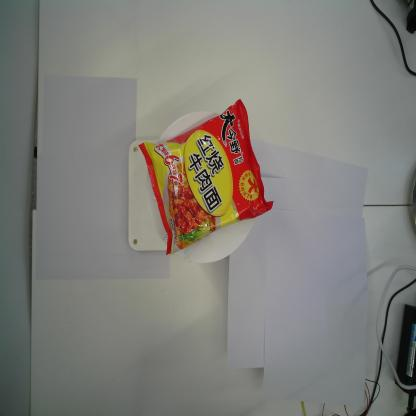Instant Noodles: (138, 98, 274, 255)
